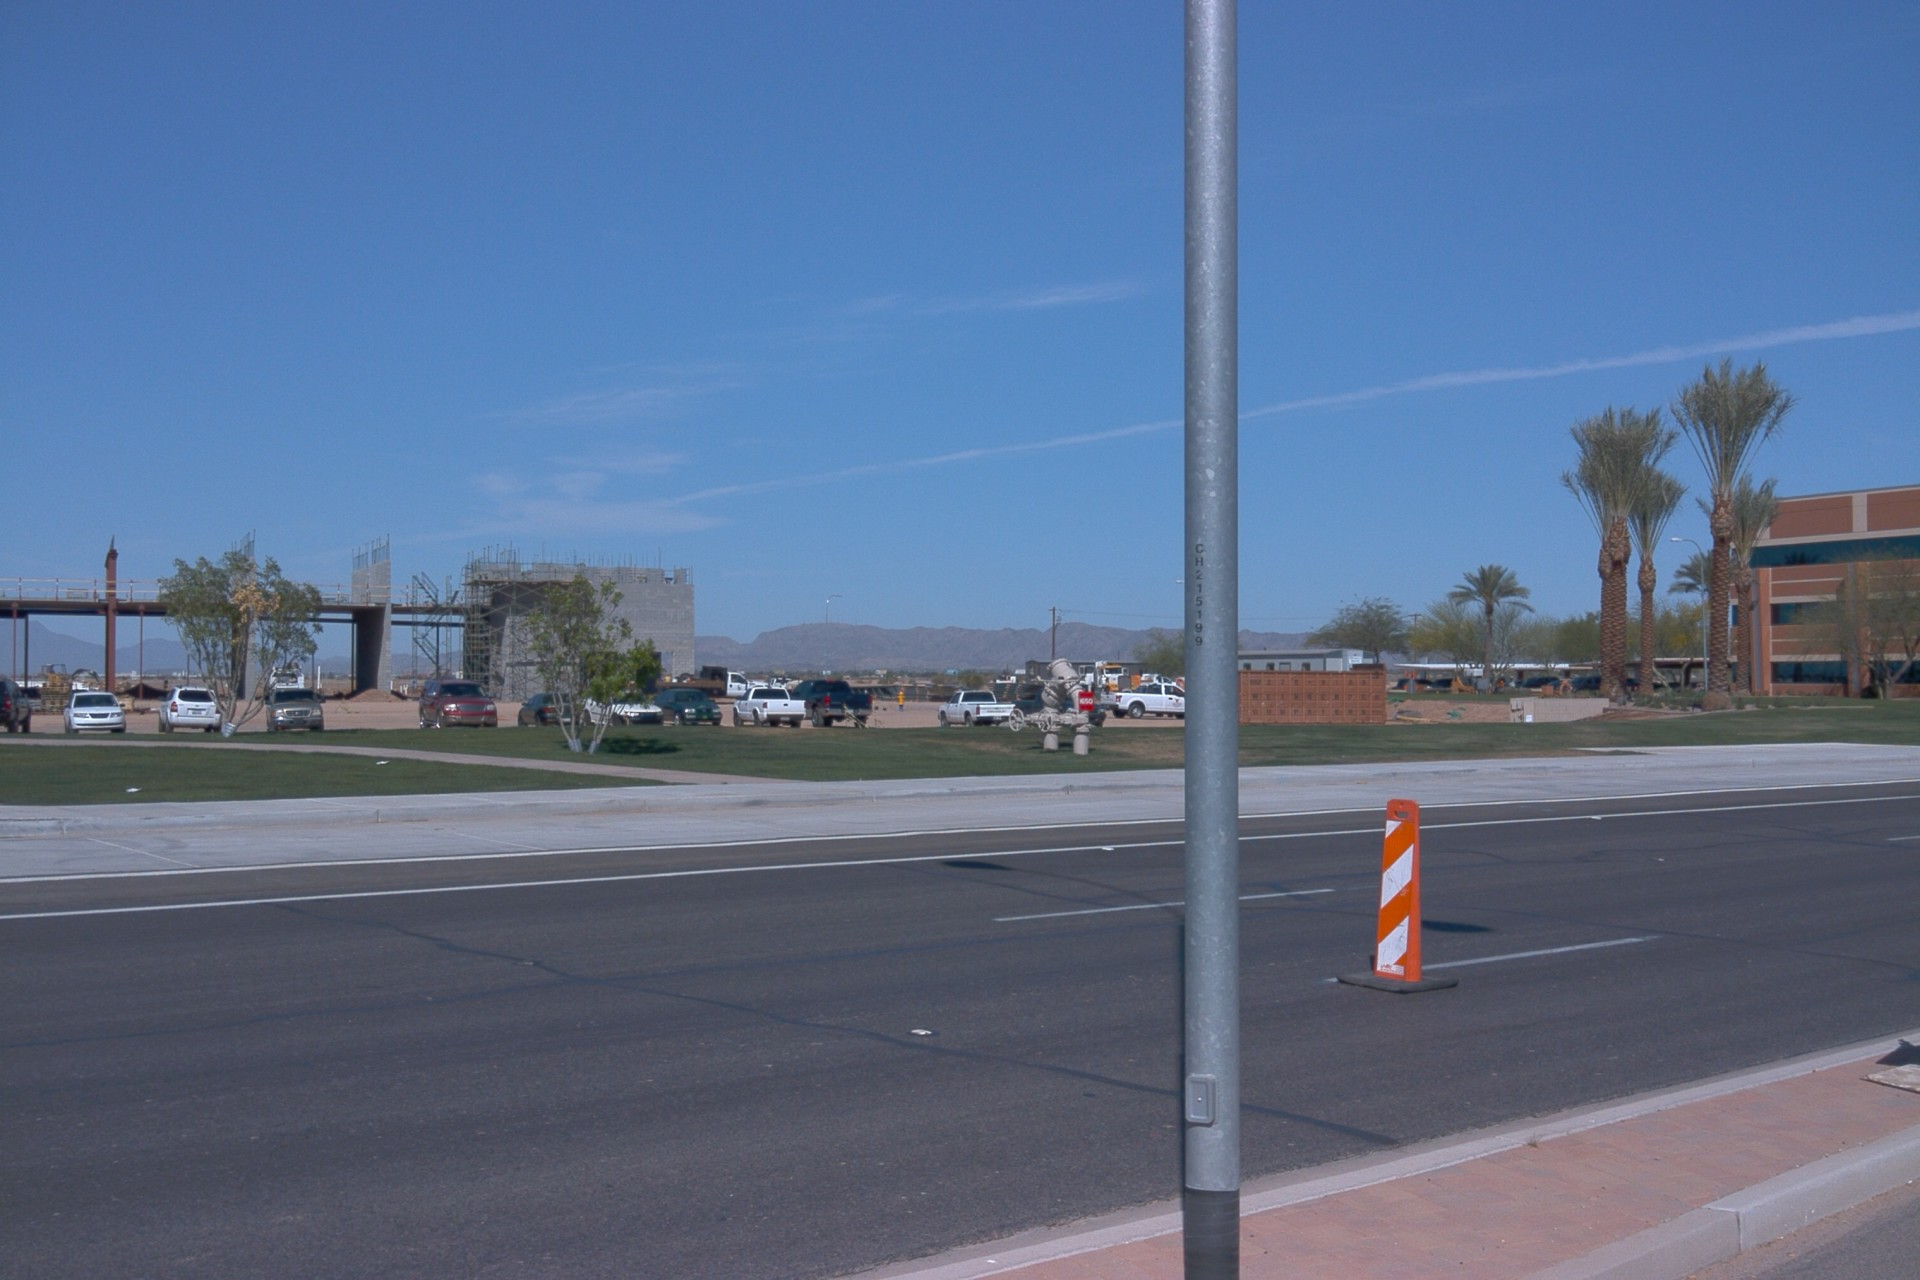TYPE_PEDESTRIAN: (1494, 674, 1505, 689), (1507, 676, 1518, 689)
TYPE_VEHICLE: (659, 663, 770, 704), (791, 673, 877, 724), (418, 677, 499, 730), (1008, 678, 1100, 719), (1096, 679, 1185, 721), (1032, 662, 1124, 702), (258, 684, 324, 738), (516, 688, 593, 734), (937, 684, 1017, 728), (156, 684, 224, 735), (735, 684, 811, 729), (583, 691, 664, 732), (60, 689, 127, 738), (652, 684, 720, 728), (36, 664, 99, 698), (0, 676, 35, 736), (259, 662, 306, 702), (1391, 683, 1435, 699), (1569, 678, 1602, 699), (1521, 680, 1567, 694), (766, 681, 798, 698), (1432, 683, 1455, 699), (782, 683, 805, 697)
